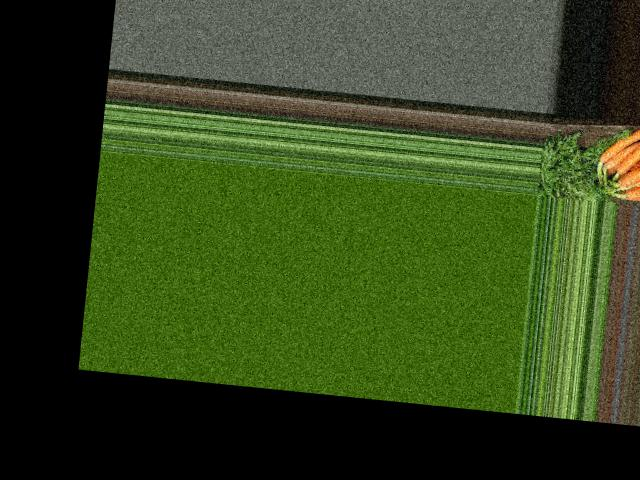carrot: (623, 159, 640, 206)
